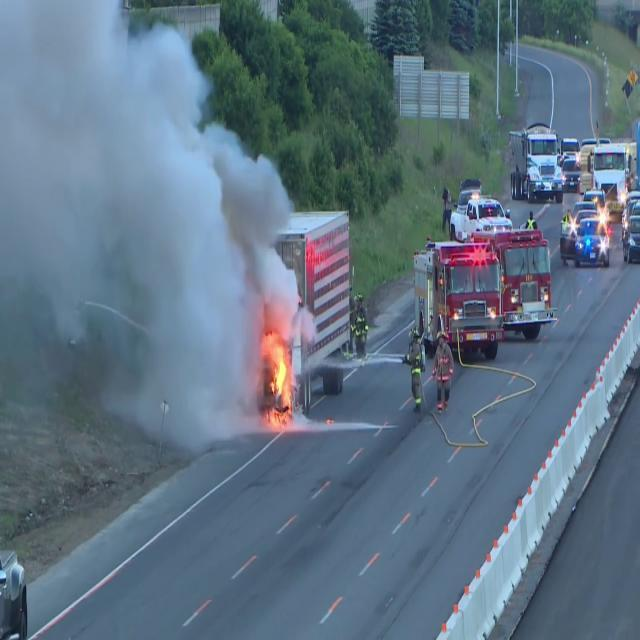Fire: (260, 325, 296, 423)
Smoke: (0, 1, 294, 458)
